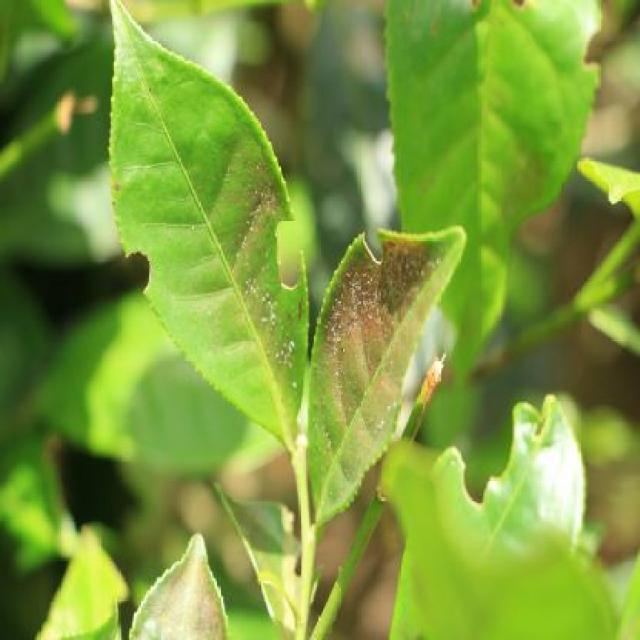Red Spider infested tea leaf: (93, 0, 324, 478), (286, 216, 451, 544)
